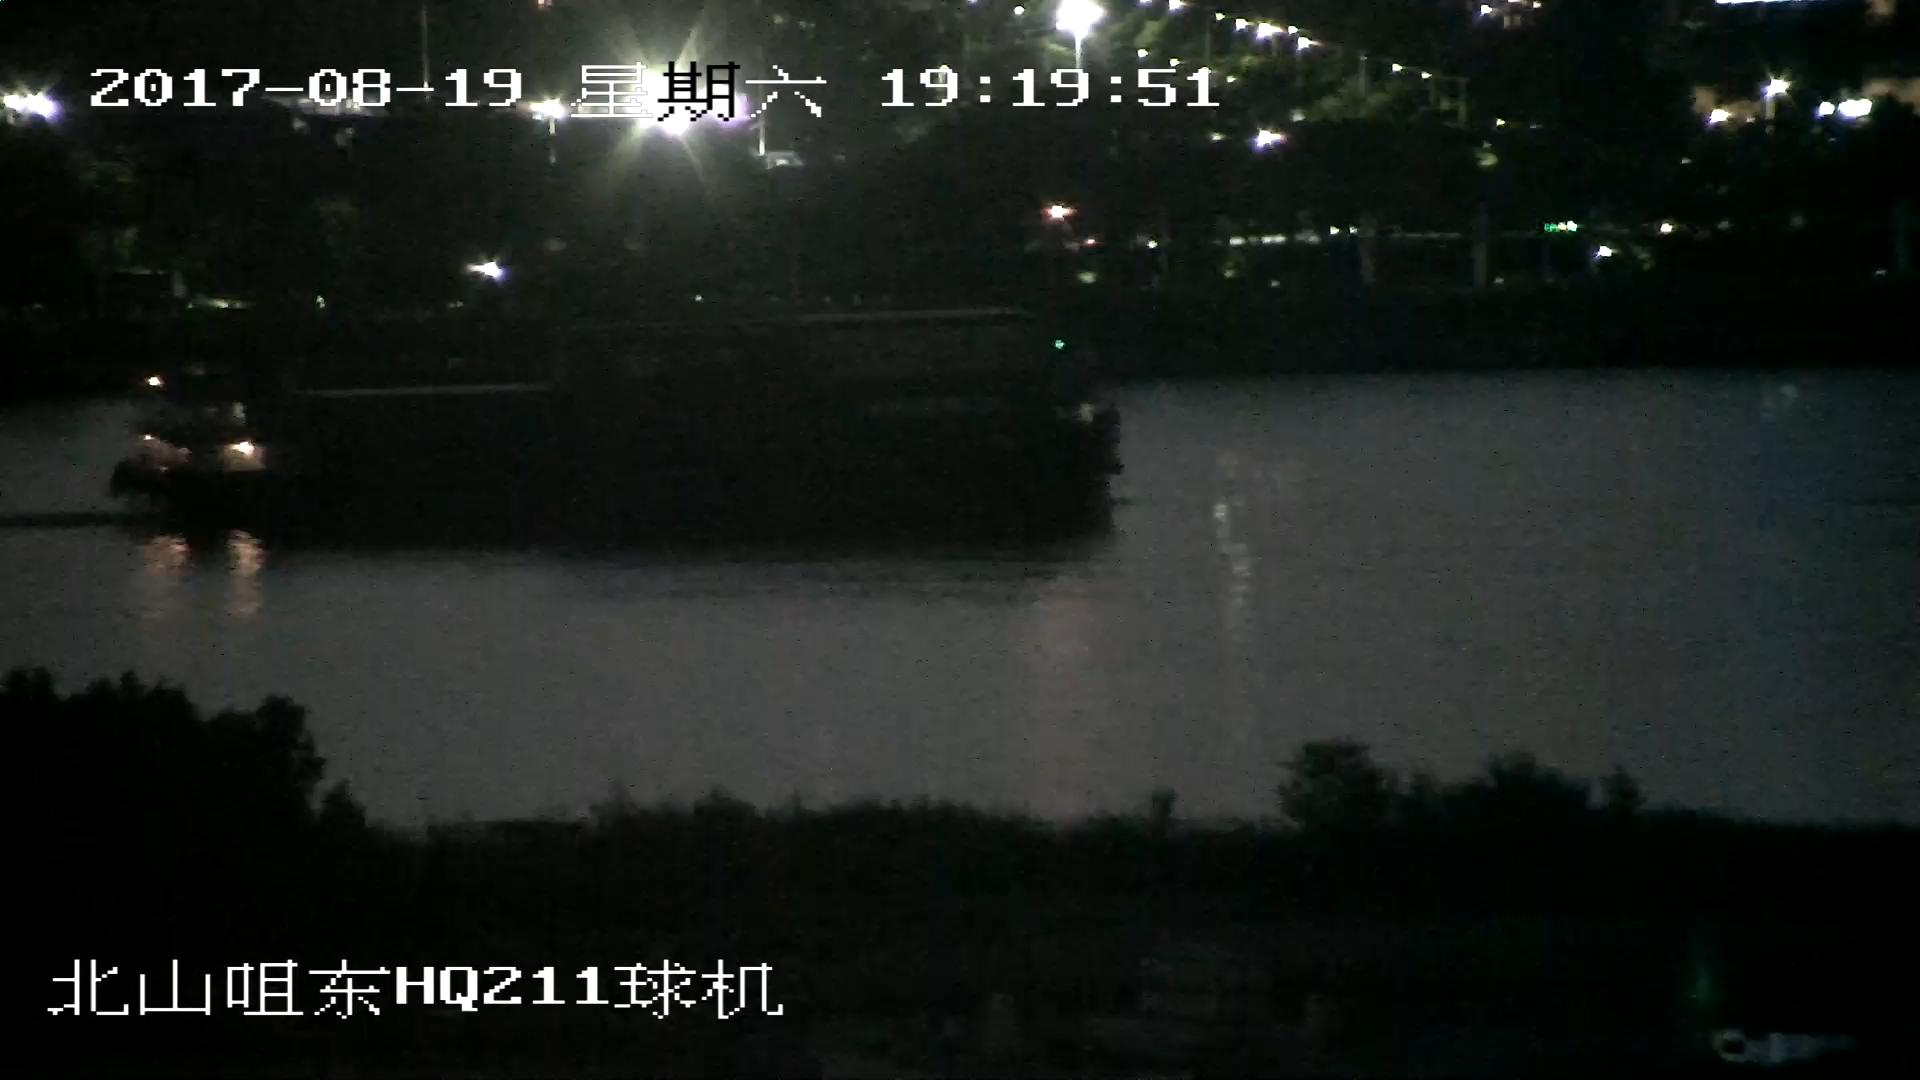container ship: (142, 331, 1120, 554)
